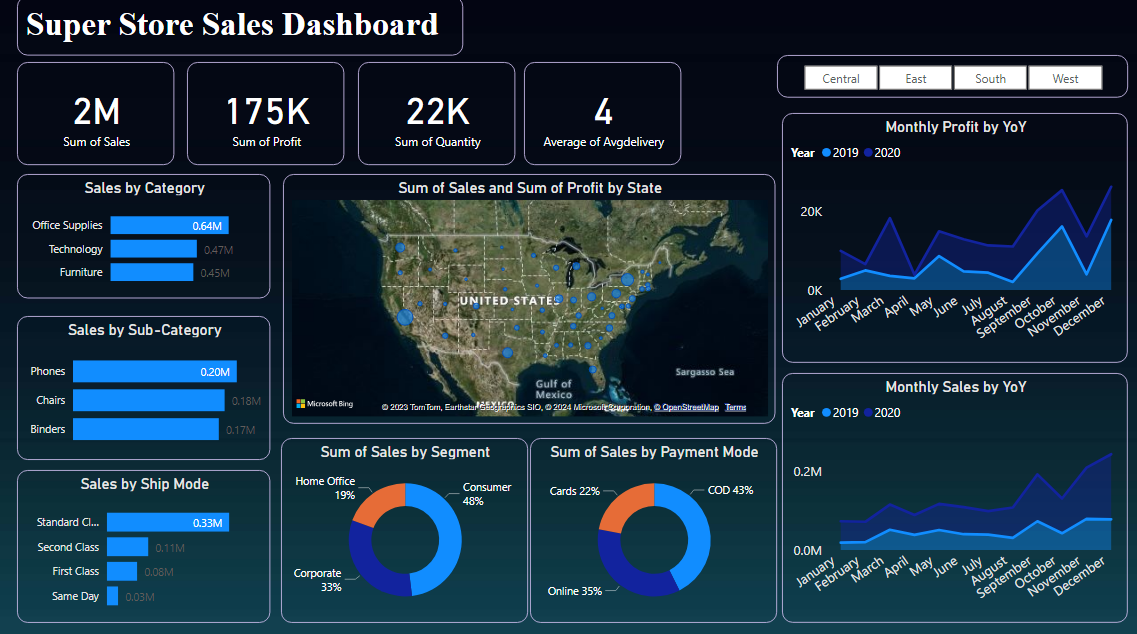

Layout of this report page (visuals, bound fields, positions):
{"tool":"powerbi","page":{"name":"Page 1","canvas":[1280,720],"ordinal":0},"visuals":[{"type":"clusteredBarChart","title":"Sales by Category","fields":{"Category":["SuperStore_Sales_Dataset.Category"],"Y":["Sum(SuperStore_Sales_Dataset.Sales)"]},"box":[20.6,200.5,285.3,140.1],"z":0},{"type":"clusteredBarChart","title":"Sales by Sub-Category","fields":{"Y":["Sum(SuperStore_Sales_Dataset.Sales)"],"Category":["SuperStore_Sales_Dataset.Sub-Category"]},"box":[20.6,359.8,285.3,161.9],"z":1000},{"type":"clusteredBarChart","title":"Sales by Ship Mode","fields":{"Y":["Sum(SuperStore_Sales_Dataset.Sales)"],"Category":["SuperStore_Sales_Dataset.Ship Mode"]},"box":[20.6,533.3,285.3,172.2],"z":2000},{"type":"stackedAreaChart","title":"Monthly Sales by YoY","fields":{"Category":["SuperStore_Sales_Dataset.Order Date.Variation.Date Hierarchy.Month"],"Y":["Sum(SuperStore_Sales_Dataset.Sales)"],"Series":["SuperStore_Sales_Dataset.Order Date.Variation.Date Hierarchy.Year"]},"box":[880.3,424.1,389.4,281.4],"z":3000},{"type":"stackedAreaChart","title":"Monthly Profit by YoY","fields":{"Category":["SuperStore_Sales_Dataset.Order Date.Variation.Date Hierarchy.Month"],"Series":["SuperStore_Sales_Dataset.Order Date.Variation.Date Hierarchy.Year"],"Y":["Sum(SuperStore_Sales_Dataset.Profit)"]},"box":[880.3,131.1,389.4,281.4],"z":4000},{"type":"map","fields":{"Category":["SuperStore_Sales_Dataset.State"],"Size":["Sum(SuperStore_Sales_Dataset.Sales)"]},"box":[320,200.5,553.9,281.4],"z":5000},{"type":"donutChart","fields":{"Category":["SuperStore_Sales_Dataset.Segment"],"Y":["Sum(SuperStore_Sales_Dataset.Sales)"]},"box":[317.4,497.3,277.6,208.2],"z":6000},{"type":"donutChart","fields":{"Y":["Sum(SuperStore_Sales_Dataset.Sales)"],"Category":["SuperStore_Sales_Dataset.Payment Mode"]},"box":[597.6,497.3,277.6,208.2],"z":7000},{"type":"slicer","fields":{"Values":["SuperStore_Sales_Dataset.Region"]},"box":[875.2,66.8,394.5,47.6],"z":8000},{"type":"textbox","box":[20.6,0,502.5,66.8],"z":9000},{"type":"card","fields":{"Values":["Sum(SuperStore_Sales_Dataset.Sales)"]},"box":[20.6,74.5,177.3,115.7],"z":10000},{"type":"card","fields":{"Values":["Sum(SuperStore_Sales_Dataset.Profit)"]},"box":[212,74.5,177.3,115.7],"z":11000},{"type":"card","fields":{"Values":["Sum(SuperStore_Sales_Dataset.Quantity)"]},"box":[403.5,74.5,177.3,115.7],"z":12000},{"type":"card","fields":{"Values":["Avg(SuperStore_Sales_Dataset.Avgdelivery)"]},"box":[591.2,74.5,177.3,115.7],"z":13000}]}

Visuals, with their boxes in screenshot pixels (x1, y1, x2, y2), scaled from the page's 1280x720 canvas onto the 1137x634 screenshot:
"Sales by Category" clusteredBarChart: {"left": 18, "top": 177, "right": 272, "bottom": 300}
"Sales by Sub-Category" clusteredBarChart: {"left": 18, "top": 317, "right": 272, "bottom": 459}
"Sales by Ship Mode" clusteredBarChart: {"left": 18, "top": 470, "right": 272, "bottom": 621}
"Monthly Sales by YoY" stackedAreaChart: {"left": 782, "top": 373, "right": 1128, "bottom": 621}
"Monthly Profit by YoY" stackedAreaChart: {"left": 782, "top": 115, "right": 1128, "bottom": 363}
map - SuperStore_Sales_Dataset.State x Sum(SuperStore_Sales_Dataset.Sales): {"left": 284, "top": 177, "right": 776, "bottom": 424}
donutChart - SuperStore_Sales_Dataset.Segment x Sum(SuperStore_Sales_Dataset.Sales): {"left": 282, "top": 438, "right": 529, "bottom": 621}
donutChart - Sum(SuperStore_Sales_Dataset.Sales) x SuperStore_Sales_Dataset.Payment Mode: {"left": 531, "top": 438, "right": 777, "bottom": 621}
slicer - SuperStore_Sales_Dataset.Region: {"left": 777, "top": 59, "right": 1128, "bottom": 101}
textbox: {"left": 18, "top": 0, "right": 465, "bottom": 59}
card - Sum(SuperStore_Sales_Dataset.Sales): {"left": 18, "top": 66, "right": 176, "bottom": 167}
card - Sum(SuperStore_Sales_Dataset.Profit): {"left": 188, "top": 66, "right": 346, "bottom": 167}
card - Sum(SuperStore_Sales_Dataset.Quantity): {"left": 358, "top": 66, "right": 516, "bottom": 167}
card - Avg(SuperStore_Sales_Dataset.Avgdelivery): {"left": 525, "top": 66, "right": 683, "bottom": 167}
